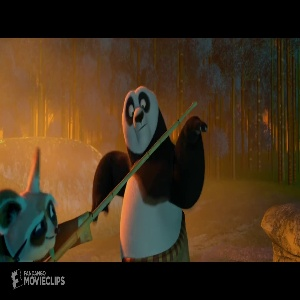po: (92, 81, 208, 262)
shifu: (2, 147, 97, 262)
